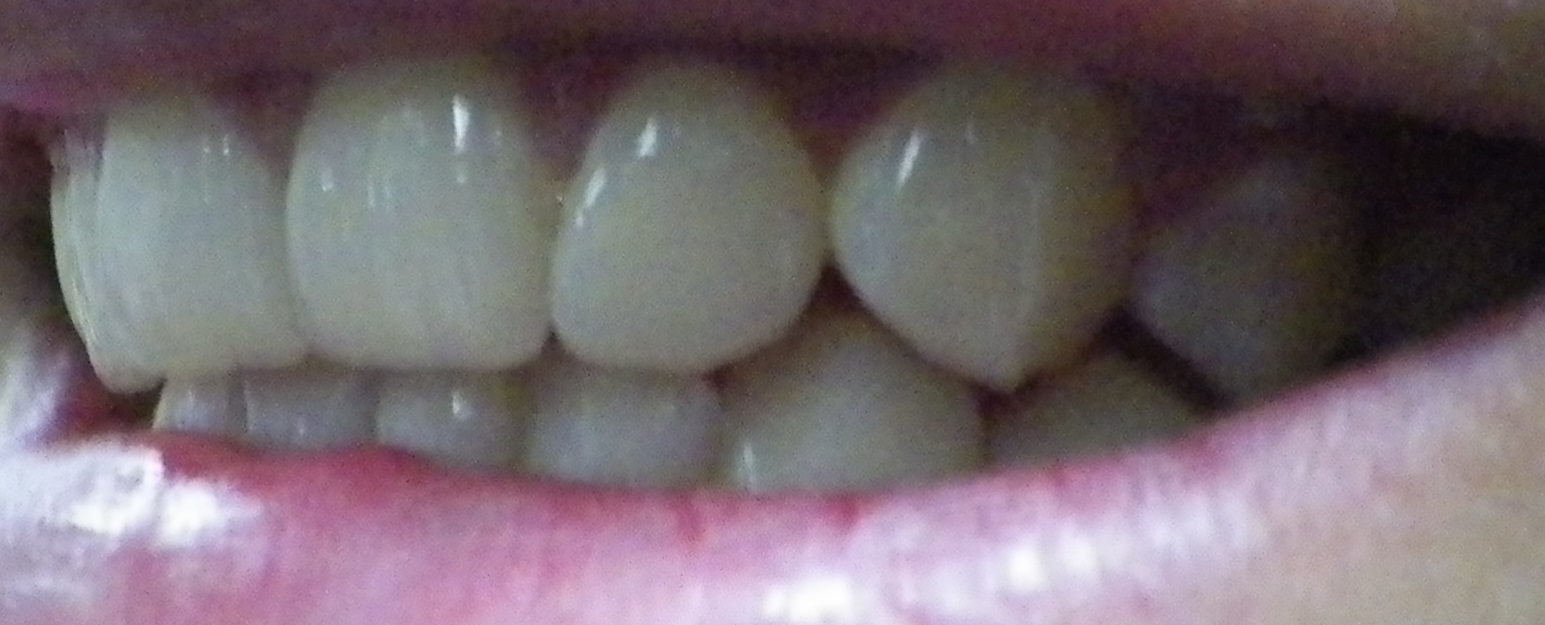boca: (46, 72, 1460, 476)
